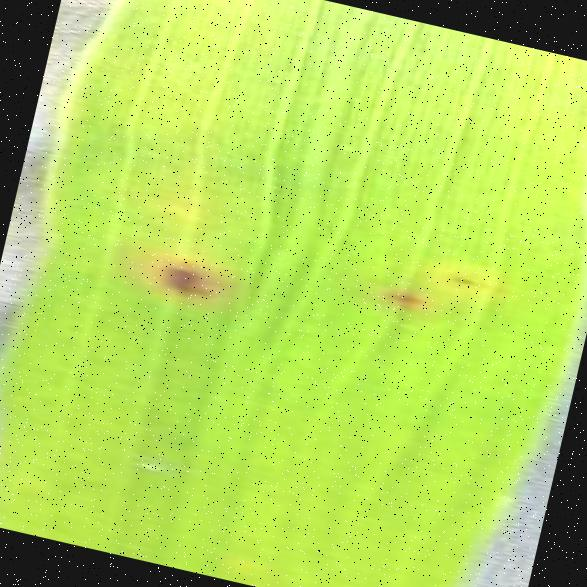Brown_Spot: (141, 236, 244, 326), (424, 246, 512, 309), (360, 267, 434, 324)
